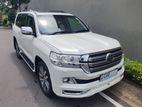car: (12, 12, 126, 99)
